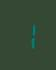one: (19, 20, 35, 50)
